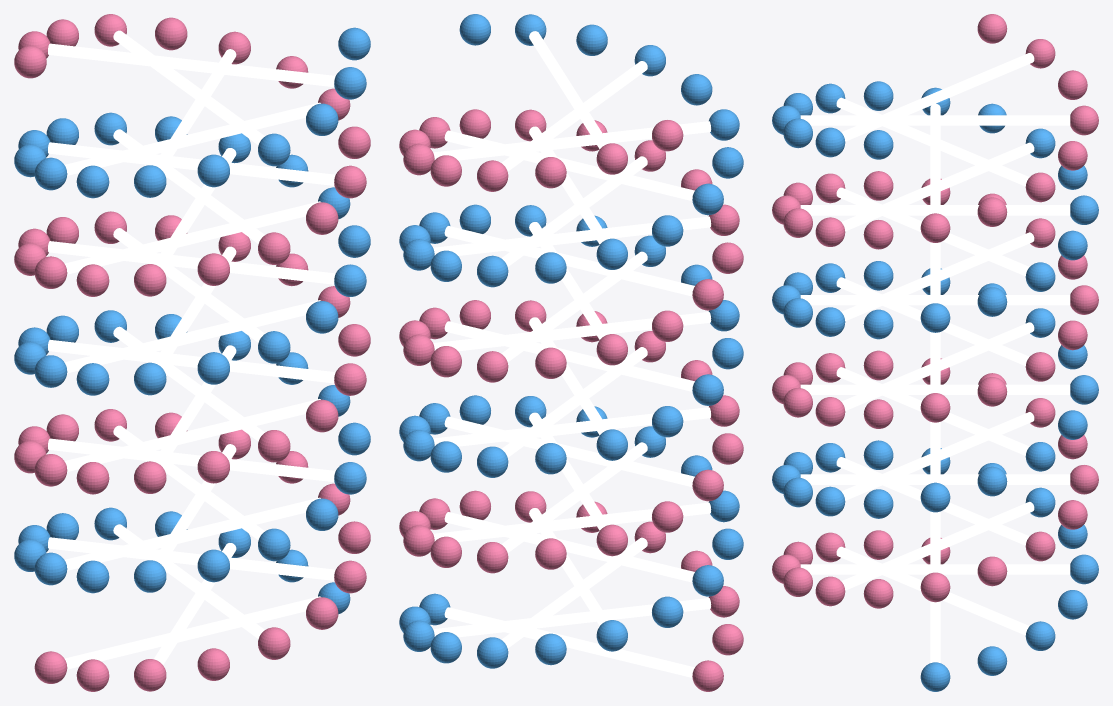
The model's file is dna_helix.glb.
3 renders of one model, left to right at view 1: azimuth 30°, elevation 25°; view 2: azimuth 150°, elevation 25°; view 3: azimuth 270°, elevation 25°, orthographic. The views are drawn at different scales.
Visible parts, largest first — view 1: Cylinder.023, Cylinder.007, Cylinder, Cylinder.003, Cylinder.016, Cylinder.019, Cylinder.020, Cylinder.004, Cylinder.011, Cylinder.015, Cylinder.008, Cylinder.012 (+89 smaller); view 2: Cylinder.009, Cylinder.005, Cylinder.013, Cylinder.017, Cylinder.001, Cylinder.021, Cylinder.012, Cylinder, Cylinder.004, Cylinder.020, Cylinder.008, Cylinder.016 (+92 smaller); view 3: Cylinder.022, Cylinder.023, Cylinder.010, Cylinder.006, Cylinder.002, Cylinder.018, Cylinder.014, Cylinder.015, Cylinder.007, Cylinder.019, Cylinder.021, Cylinder.003 (+88 smaller).
Boxes of the visible parts, box(x1,y1,x2,y2) form: Cylinder.023: box(48, 43, 335, 86); Cylinder.007: box(48, 438, 335, 481); Cylinder: box(65, 596, 320, 669); Cylinder.003: box(48, 537, 335, 580); Cylinder.016: box(65, 201, 320, 274); Cylinder.019: box(48, 142, 335, 185); Cylinder.020: box(64, 102, 320, 175); Cylinder.004: box(64, 497, 320, 570); Cylinder.011: box(48, 340, 335, 383); Cylinder.015: box(48, 241, 335, 284); Cylinder.008: box(64, 399, 320, 471); Cylinder.012: box(64, 300, 320, 373); Cylinder.009: box(433, 407, 710, 446); Cylinder.005: box(433, 502, 711, 541); Cylinder.013: box(433, 312, 711, 351); Cylinder.017: box(433, 216, 711, 255); Cylinder.001: box(433, 598, 711, 637); Cylinder.021: box(433, 121, 711, 160); Cylinder.012: box(444, 321, 694, 391); Cylinder: box(444, 607, 694, 677); Cylinder.004: box(444, 512, 694, 582); Cylinder.020: box(444, 130, 694, 201); Cylinder.008: box(444, 416, 694, 487); Cylinder.016: box(444, 226, 694, 296); Cylinder.022: box(800, 115, 1070, 125); Cylinder.023: box(841, 53, 1034, 141); Cylinder.010: box(800, 384, 1070, 394); Cylinder.006: box(800, 474, 1070, 484); Cylinder.002: box(800, 564, 1070, 574); Cylinder.018: box(800, 205, 1070, 215); Cylinder.014: box(800, 295, 1070, 305); Cylinder.015: box(841, 232, 1034, 321); Cylinder.007: box(841, 412, 1034, 500); Cylinder.019: box(841, 142, 1034, 231); Cylinder.021: box(836, 97, 1029, 186); Cylinder.003: box(841, 501, 1034, 590).
Size of the model in its own units: 2.2 by 4.12 by 2.2.
